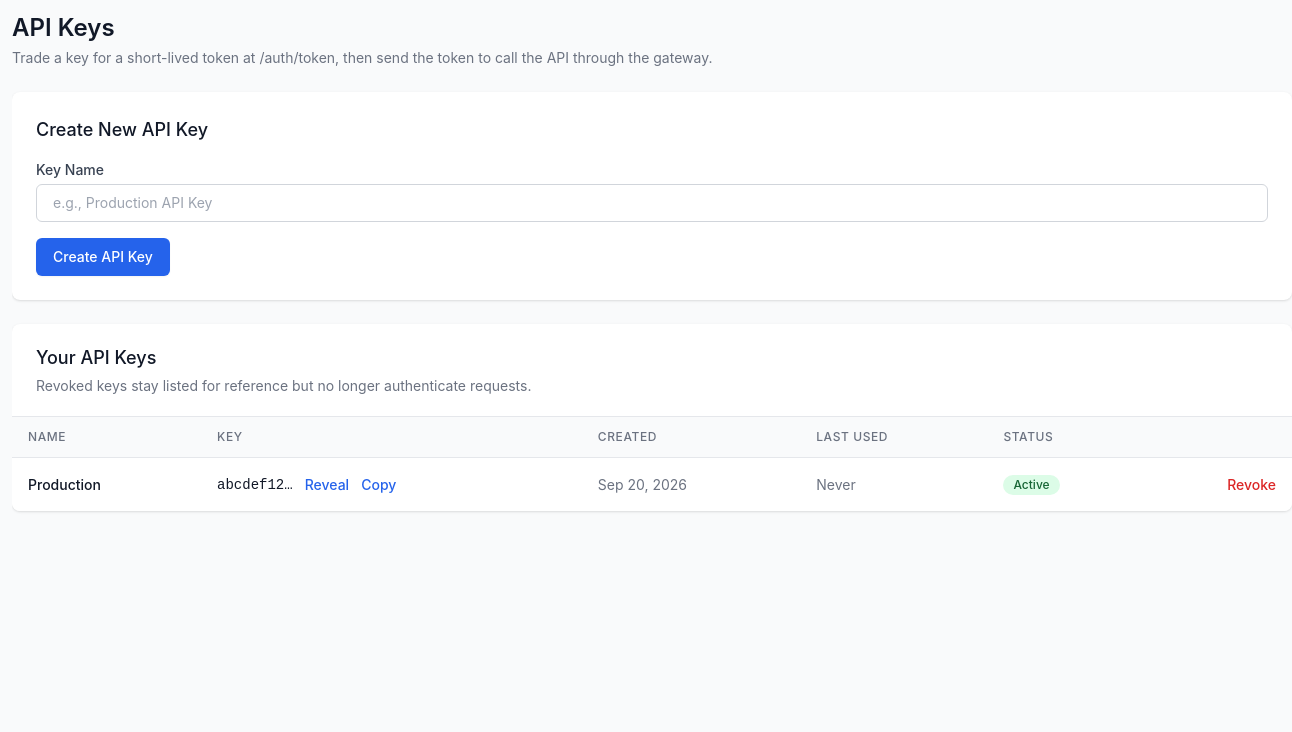
ApiKeys › revokes a key only after confirmation
Click the button "Revoke": x=1252, y=484 [1227, 474, 1276, 494]
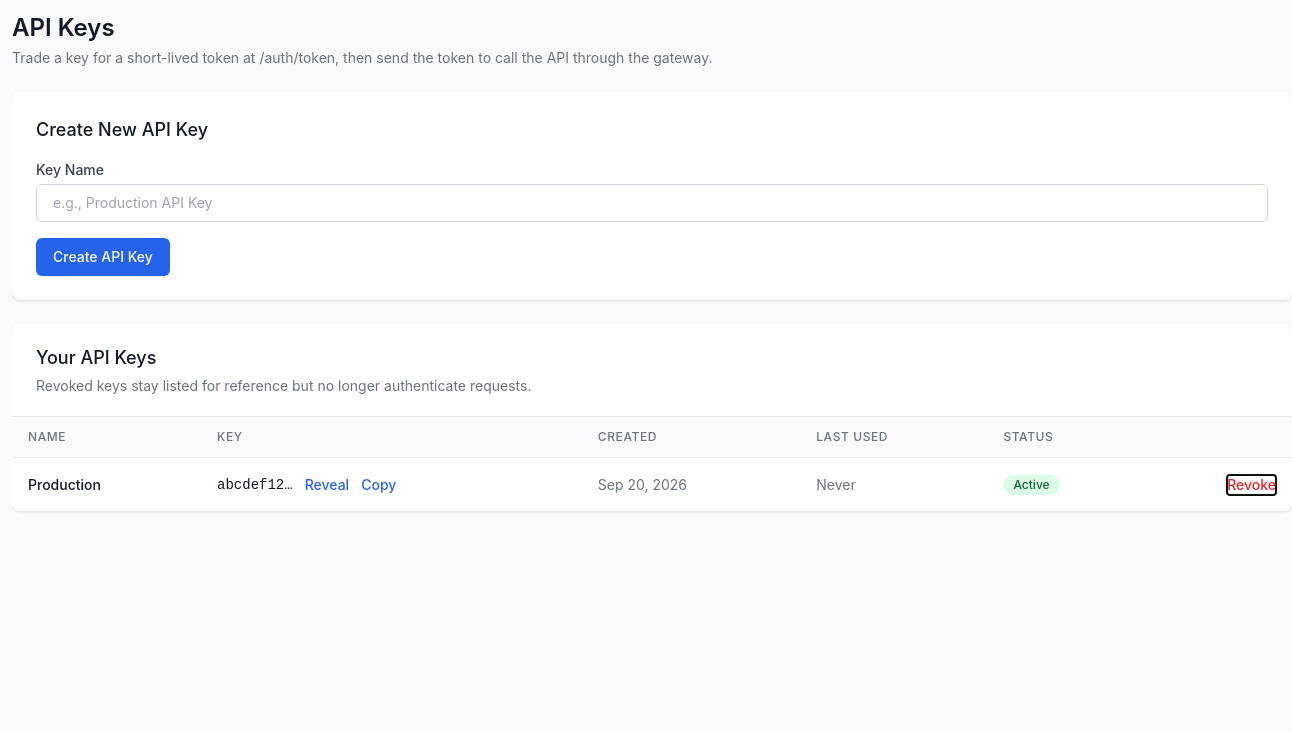
Click the button "Revoke": x=1252, y=484 [1227, 474, 1276, 494]
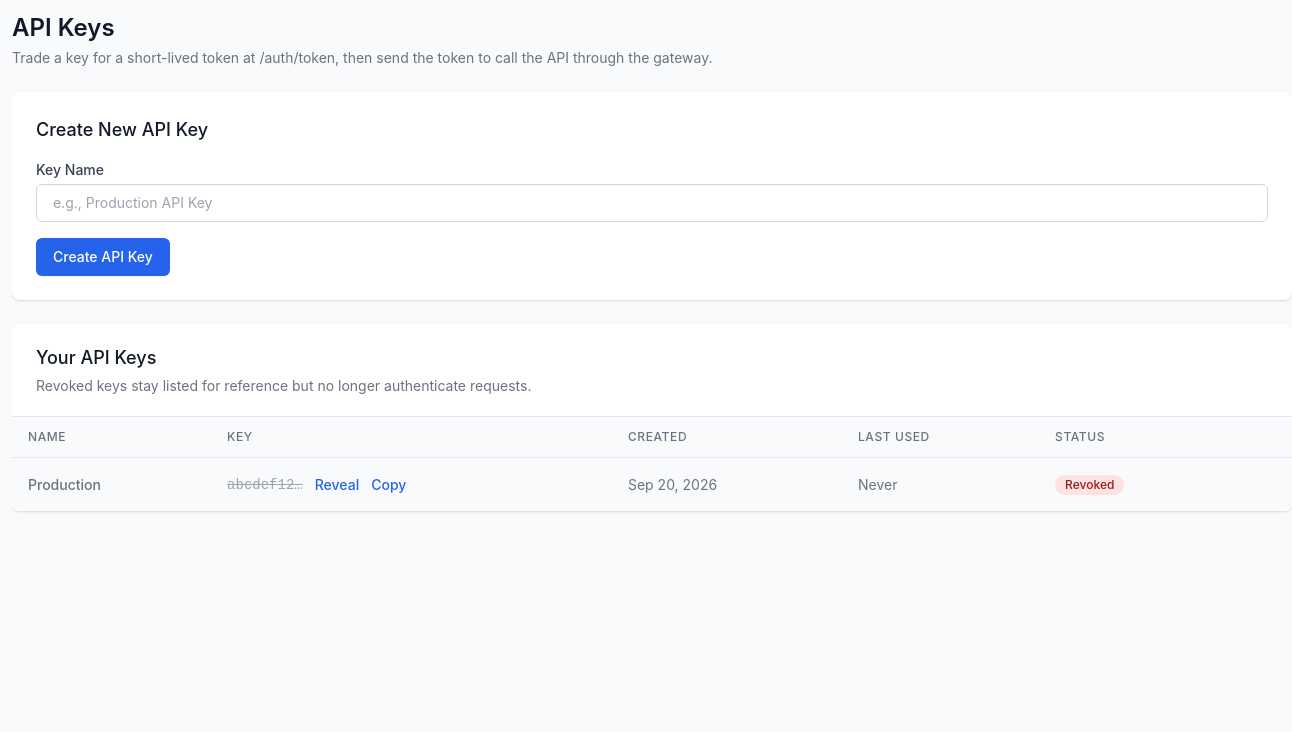
Result: the text "Revoked" is shown at [1055, 475, 1124, 495]
